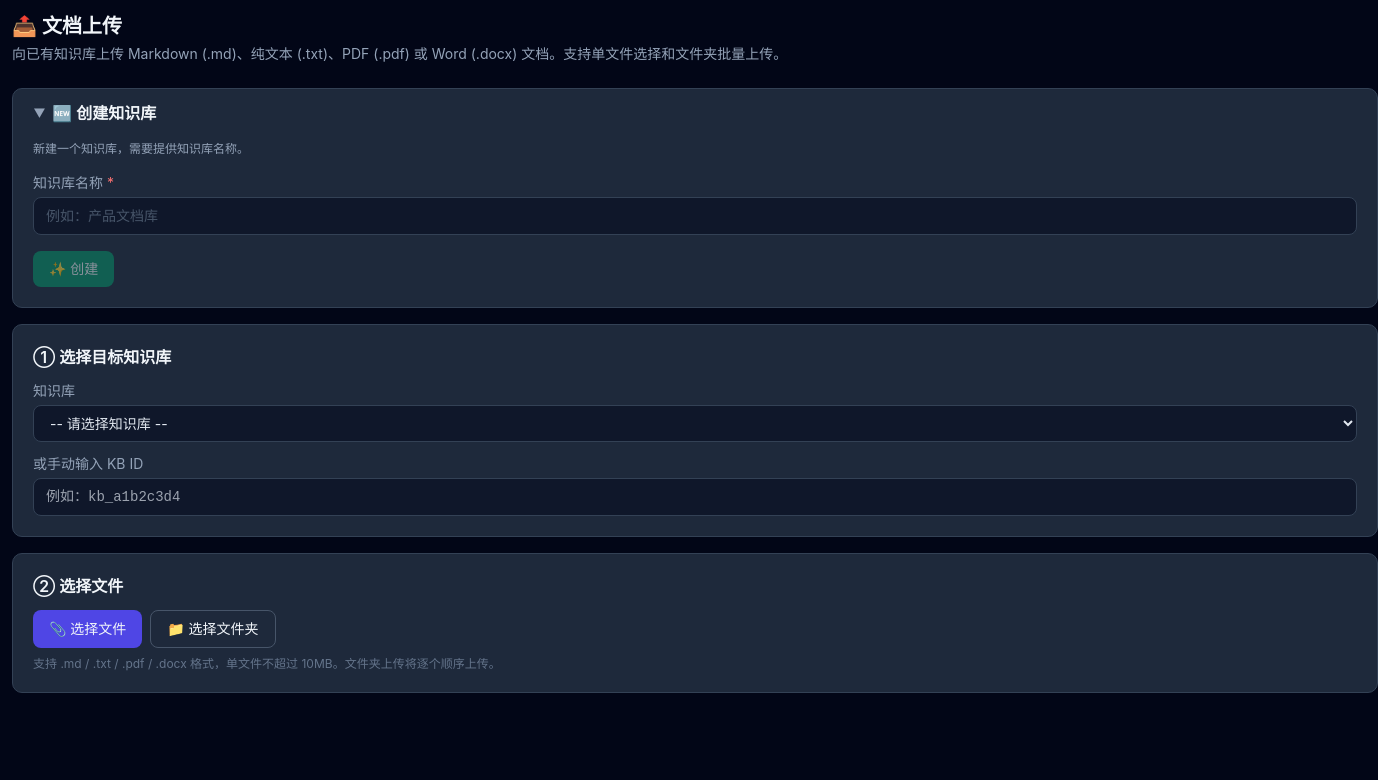
Scenario: UploadDocPage › 创建失败时应显示错误 toast
The width and height of the screenshot is (1378, 780).
Type "x" into the field with placeholder "例如：产品文档库".
click(695, 216); type("x")  # box x1=33 y1=197 x2=1357 y2=235
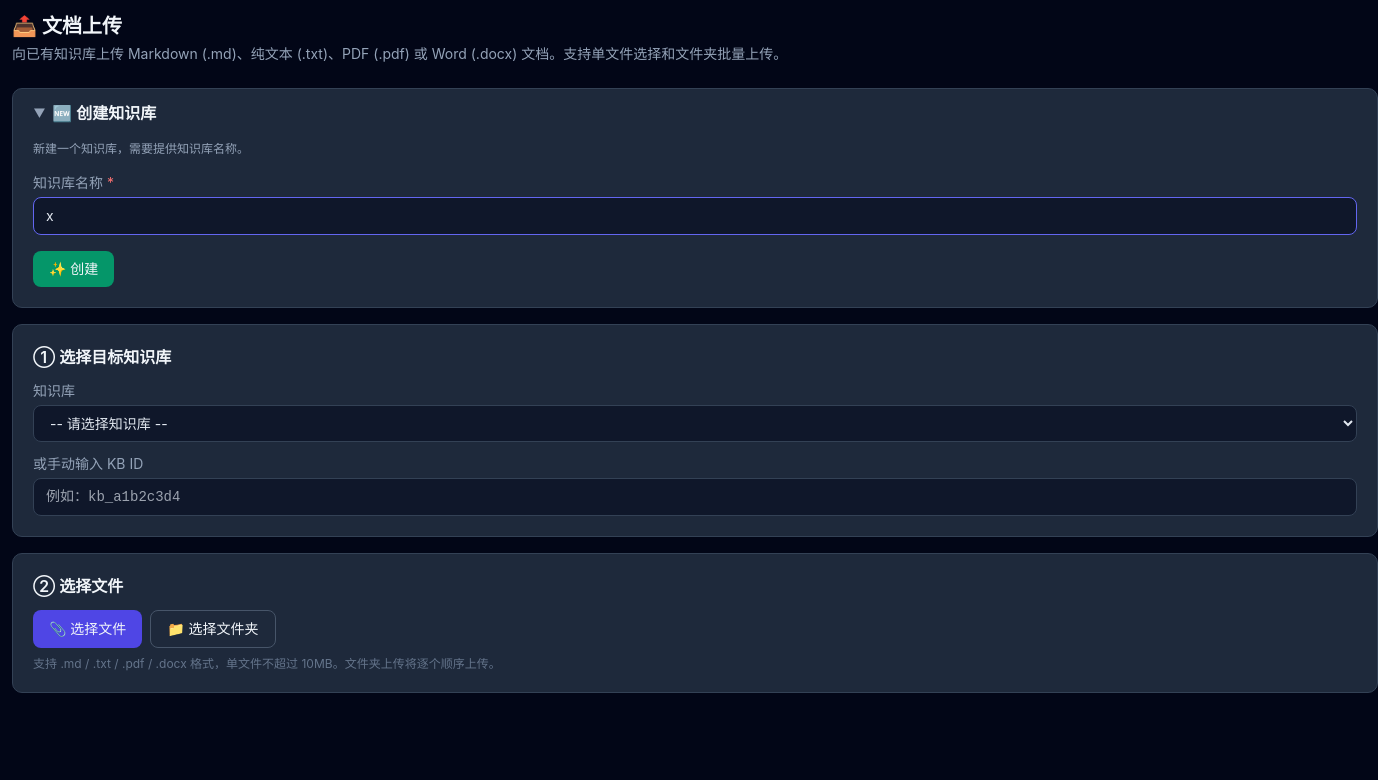
Click the button "✨ 创建".
click(74, 269)  # box x1=33 y1=251 x2=114 y2=287
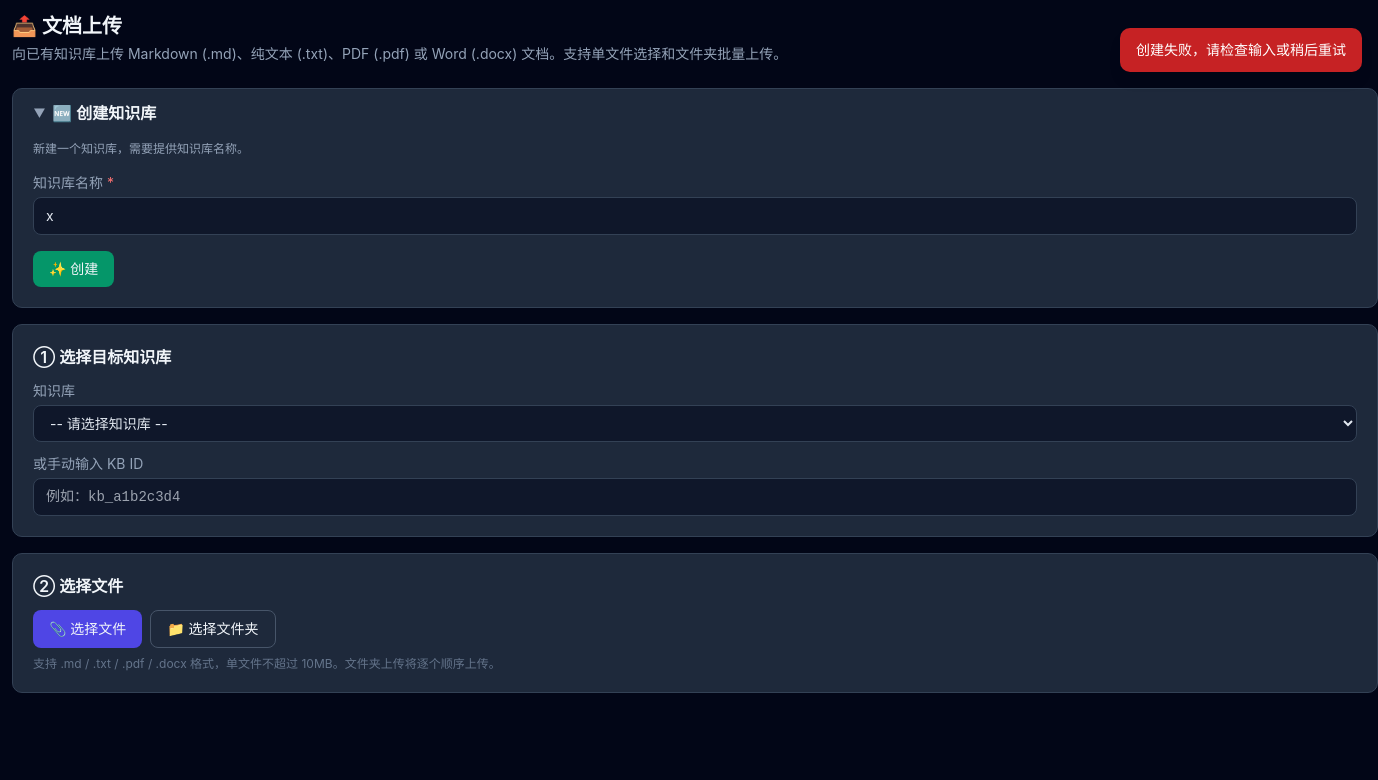
Result: the text "创建失败，请检查输入或稍后重试" is shown at x1=1120 y1=28 x2=1362 y2=72
